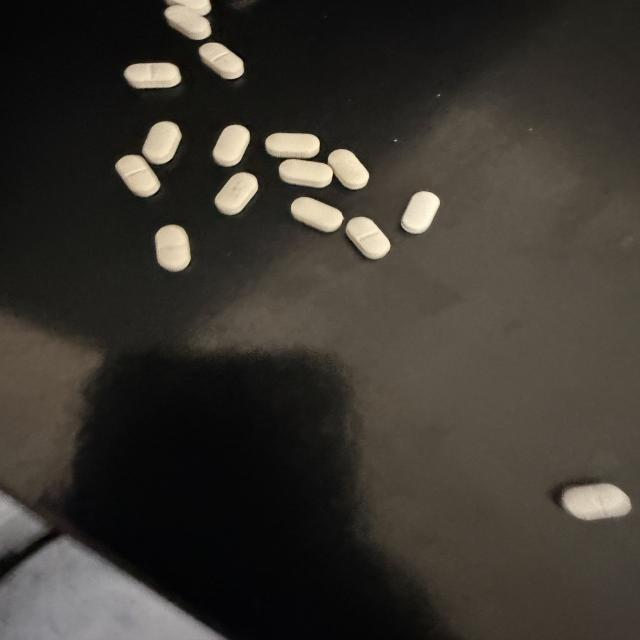pill: (561, 484, 631, 520), (346, 217, 390, 259), (116, 155, 160, 197), (291, 197, 343, 232), (215, 173, 258, 215), (199, 43, 244, 79), (165, 5, 211, 40), (155, 225, 190, 271), (328, 150, 369, 189), (143, 122, 181, 164), (401, 192, 439, 233), (279, 159, 332, 187), (213, 125, 249, 166), (124, 63, 181, 88), (265, 133, 319, 158), (166, 0, 211, 15)
